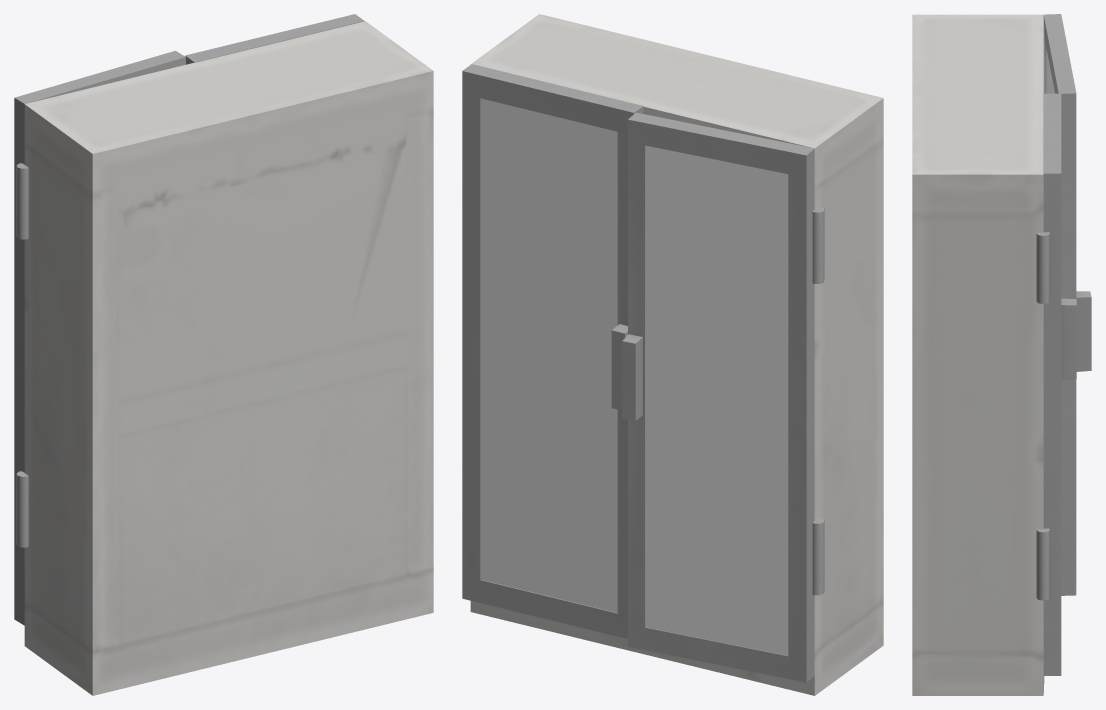
File: Pfb_Indoors_Study_Shelf_JLAB04__7.fbx
The picture shows the model from 3 angles, left to right: view 1: azimuth 30°, elevation 25°; view 2: azimuth 150°, elevation 25°; view 3: azimuth 270°, elevation 25°; orthographic projection. The views are drawn at different scales.
Visible parts, largest first — view 1: Mat_Indoors_Study_01_2_JLAB, MAT_Shop_Refridge_01_JLAB; view 2: Mat_Tile_Color_08 3, Mat_Indoors_Study_01_2_JLAB, MAT_Shop_Refridge_01_JLAB; view 3: Mat_Indoors_Study_01_2_JLAB, MAT_Shop_Refridge_01_JLAB.
Part boxes in pixels (left/top/right/bottom): Mat_Indoors_Study_01_2_JLAB: left=24, top=21, right=433, bottom=695; MAT_Shop_Refridge_01_JLAB: left=14, top=14, right=364, bottom=625; Mat_Tile_Color_08 3: left=481, top=98, right=788, bottom=655; Mat_Indoors_Study_01_2_JLAB: left=470, top=14, right=883, bottom=695; MAT_Shop_Refridge_01_JLAB: left=462, top=64, right=824, bottom=682; Mat_Indoors_Study_01_2_JLAB: left=912, top=14, right=1045, bottom=695; MAT_Shop_Refridge_01_JLAB: left=1036, top=14, right=1091, bottom=675.
Bounding box in the file's own units: 1.84 × 2.69 × 0.8354.
Materials: 3 (3 with a texture image).
